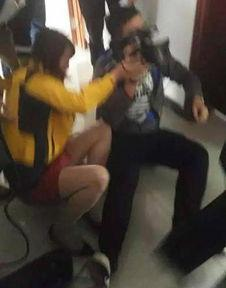Fall-Detected: (81, 5, 217, 282)
